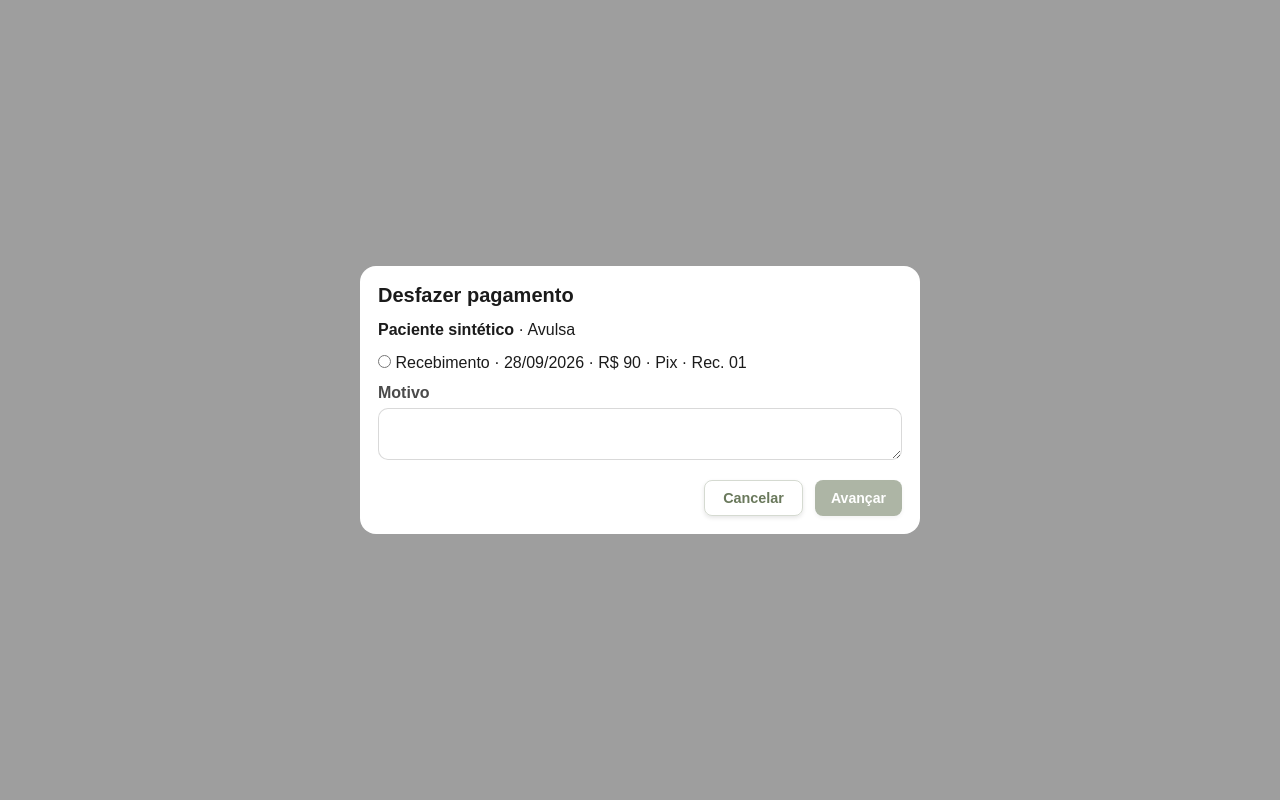
Scenario: resposta de outra cobrança não permite confirmação
The width and height of the screenshot is (1280, 800).
Click the radio button labelled "Recebimento · 28/09/2026 · R$ 90 · Pix · Rec. 01": {"x": 384, "y": 361} [378,355,391,368]
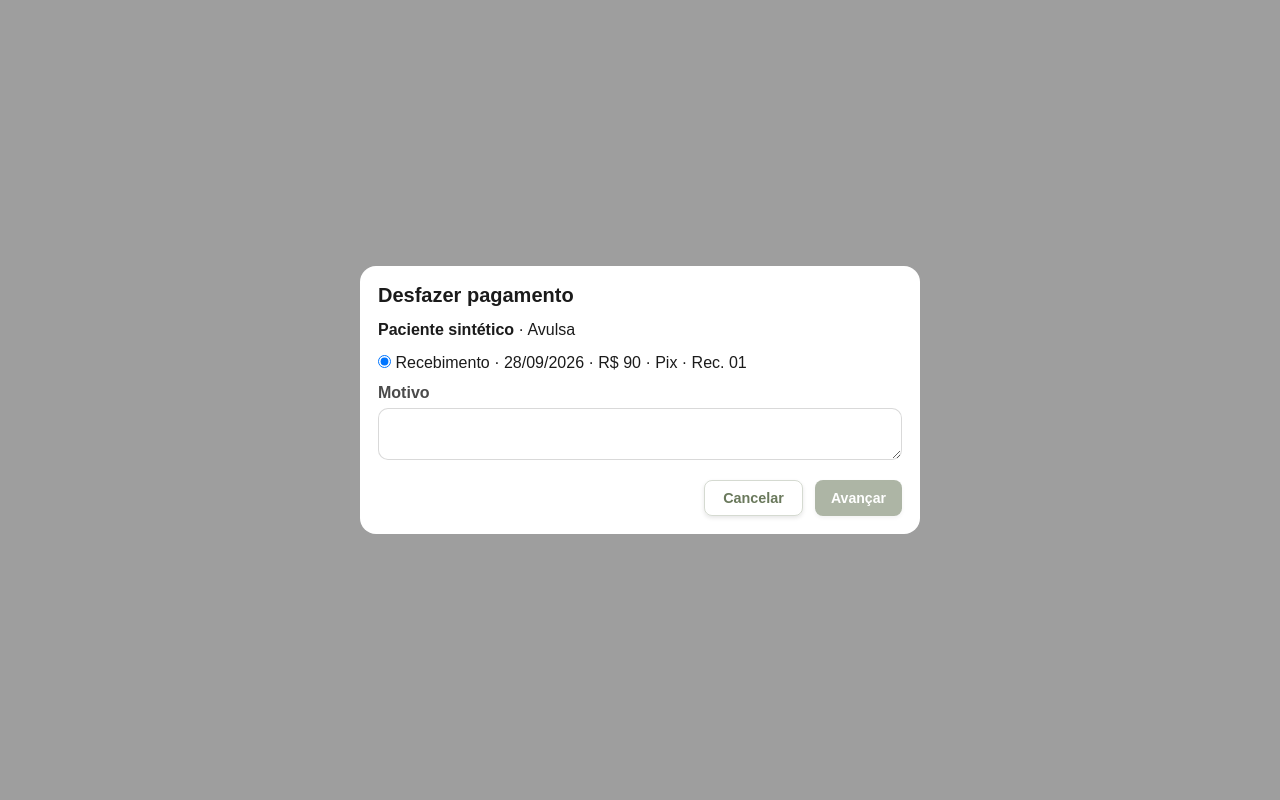
In the text box labelled "Motivo": {"x": 640, "y": 434} [378,408,902,460], type "Destino errado"
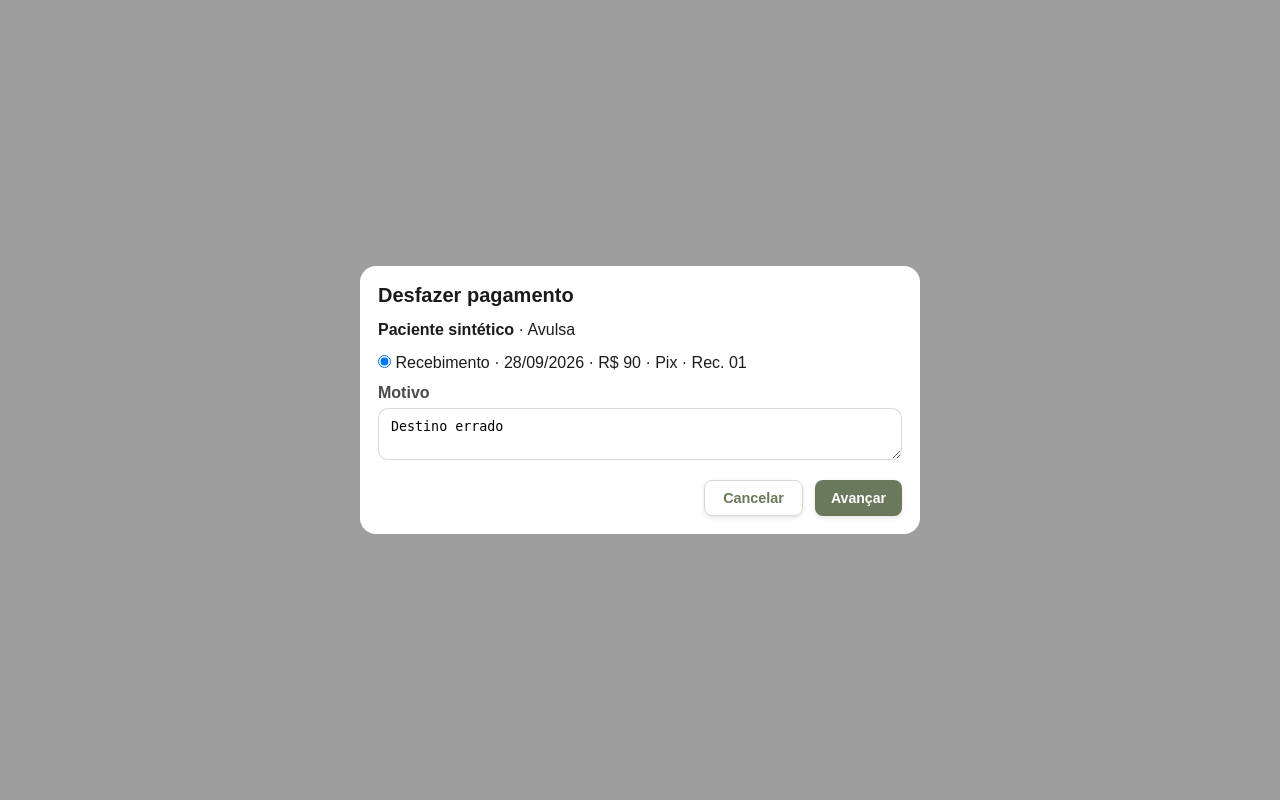
Click the button "Avançar": {"x": 858, "y": 498} [815,480,902,516]
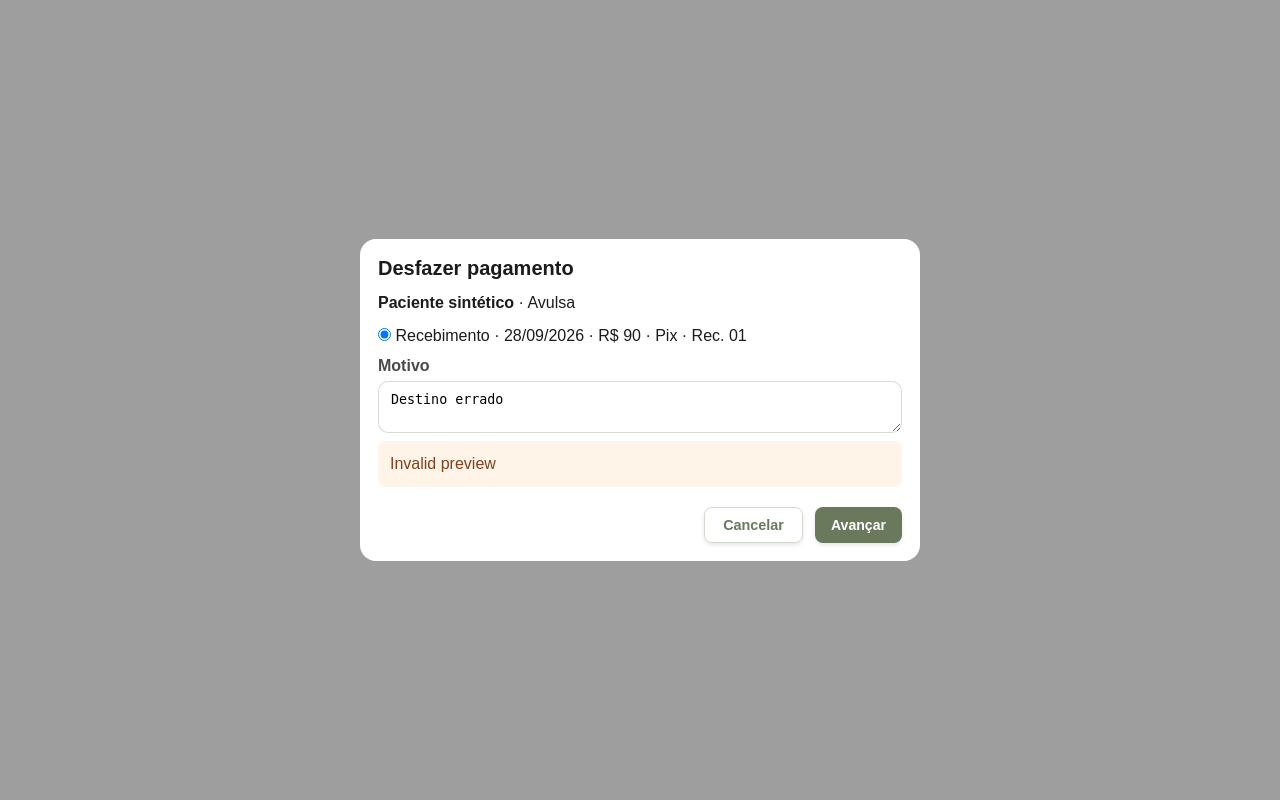
Expected: the message "Invalid preview" is shown, [378,440,902,487]
